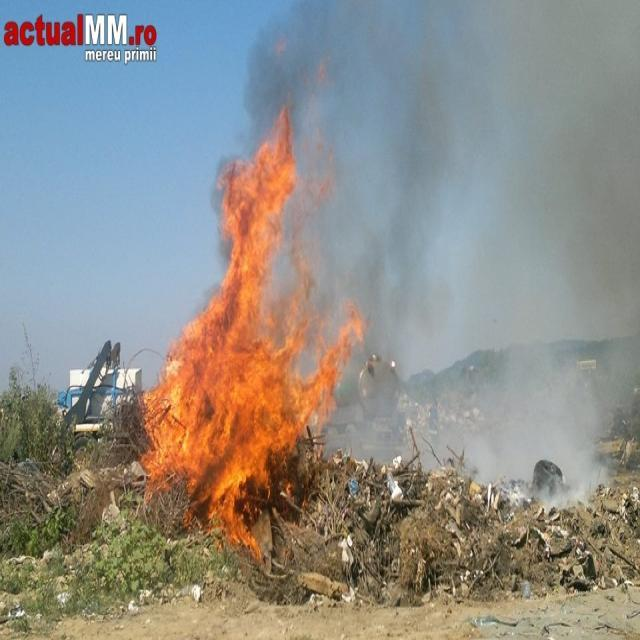Fire: (136, 116, 362, 487)
Smoke: (320, 0, 640, 474)
